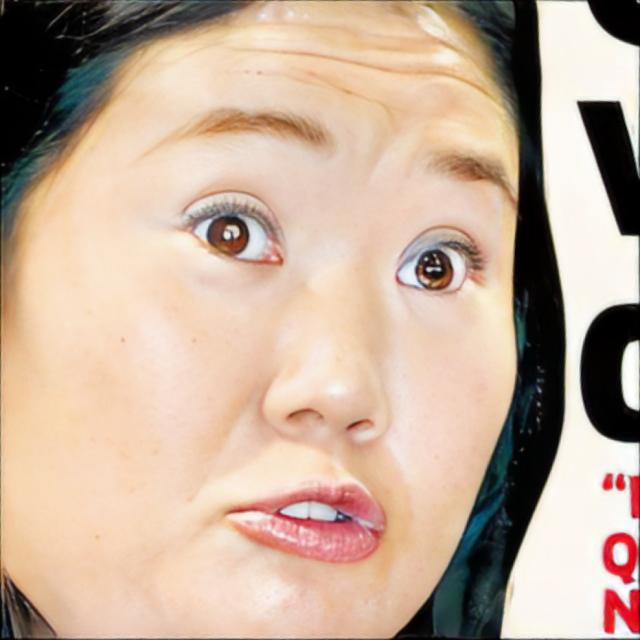fear: (12, 2, 520, 640)
